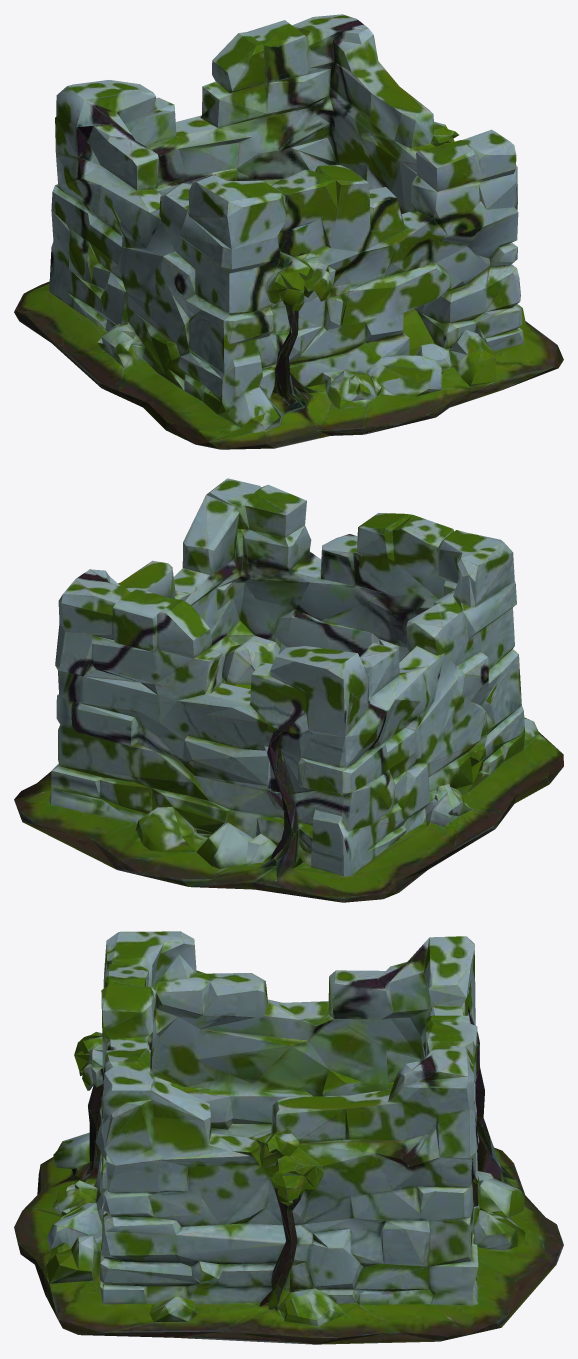
Rendered from wall_jungle.glb.
3 views of the same model, one above another, from view 1: azimuth 30°, elevation 25°; view 2: azimuth 150°, elevation 25°; view 3: azimuth 270°, elevation 25° (orthographic). The views are drawn at different scales.
Bounding box in the file's own units: 1.68 × 0.9302 × 1.89.
1 material, 1 textured.
